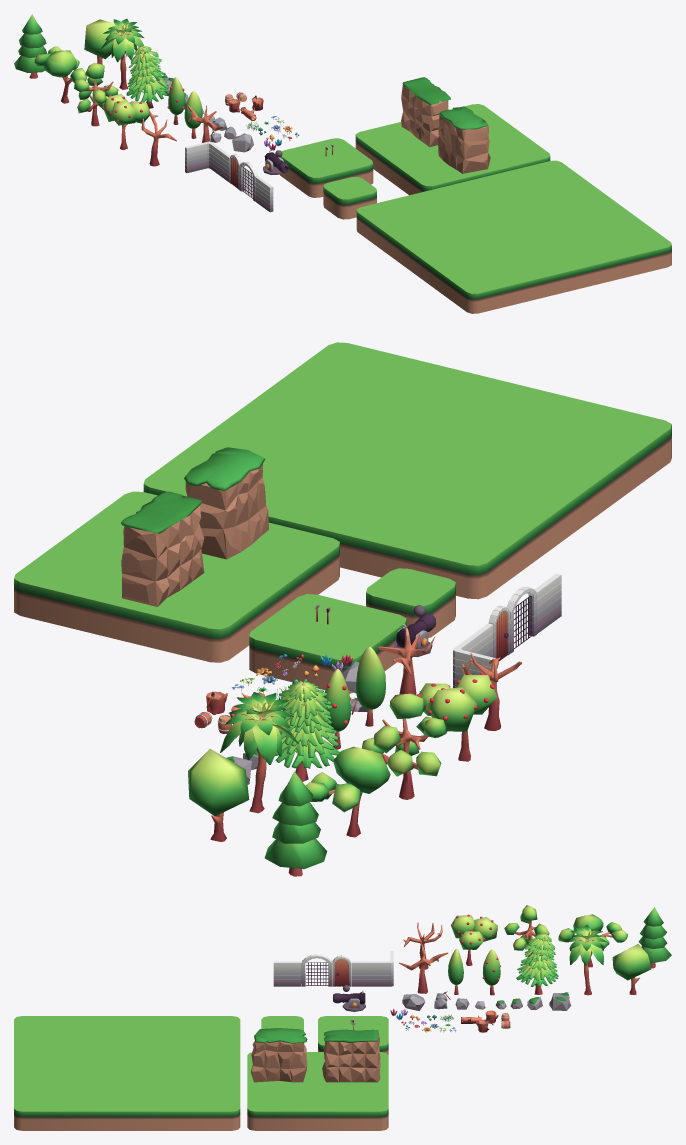
Rendered from Hutan PT 2.fbx.
The picture shows the model from 3 angles, top to bottom: view 1: azimuth 30°, elevation 25°; view 2: azimuth 150°, elevation 25°; view 3: azimuth 270°, elevation 25°; orthographic projection. The views are drawn at different scales.
Visible parts, largest first — view 1: Platform.002, Platform.001, Platform, Gunung 2, Gunung 1, Platform Kecil, Pohon 3, Pohon 8, Pohon 9, Pohon 1, Pohon 11, Pohon 4 (+6 smaller); view 2: Platform.002, Platform.001, Platform, Gunung 1, Gunung 2, Pohon 3, Pohon 8, Pohon 11, Platform Kecil, Pohon 9, Pohon 1, Pohon 10 (+8 smaller); view 3: Platform.002, Platform.001, Gunung 1, Gunung 2, Pohon 3, Platform, Pohon 4, Pohon 9, Pohon 11, Pohon 10, Pohon 1, Pohon 8 (+10 smaller).
Part boxes in pixels (bbox=[...]): Platform.002: bbox=[356, 160, 671, 313]; Platform.001: bbox=[355, 104, 550, 195]; Platform: bbox=[280, 138, 373, 197]; Gunung 2: bbox=[438, 106, 490, 173]; Gunung 1: bbox=[401, 77, 450, 147]; Platform Kecil: bbox=[323, 177, 376, 219]; Pohon 3: bbox=[126, 45, 169, 108]; Pohon 8: bbox=[74, 62, 118, 126]; Pohon 9: bbox=[100, 18, 143, 89]; Pohon 1: bbox=[34, 46, 87, 103]; Pohon 11: bbox=[14, 14, 47, 78]; Pohon 4: bbox=[101, 93, 149, 149]; Platform.002: bbox=[143, 342, 671, 599]; Platform.001: bbox=[14, 491, 339, 662]; Platform: bbox=[249, 594, 406, 693]; Gunung 1: bbox=[121, 491, 204, 606]; Gunung 2: bbox=[184, 447, 268, 559]; Pohon 3: bbox=[275, 680, 339, 781]; Pohon 8: bbox=[362, 693, 447, 799]; Pohon 11: bbox=[264, 771, 327, 876]; Platform Kecil: bbox=[366, 568, 455, 637]; Pohon 9: bbox=[220, 692, 298, 813]; Pohon 1: bbox=[305, 746, 390, 837]; Pohon 10: bbox=[188, 749, 249, 841]; Platform.002: bbox=[14, 1016, 240, 1130]; Platform.001: bbox=[247, 1052, 388, 1130]; Gunung 1: bbox=[322, 1029, 380, 1082]; Gunung 2: bbox=[251, 1028, 307, 1082]; Pohon 3: bbox=[516, 933, 558, 994]; Platform: bbox=[318, 1016, 388, 1054]; Pohon 4: bbox=[451, 914, 497, 965]; Pohon 9: bbox=[566, 924, 606, 995]; Pohon 11: bbox=[638, 907, 671, 968]; Pohon 10: bbox=[612, 944, 651, 994]; Pohon 1: bbox=[558, 914, 627, 967]; Pohon 8: bbox=[504, 905, 549, 957].
Bounding box in the file's own units: 5229 × 1251 × 9305.
2 materials, 2 textured.
